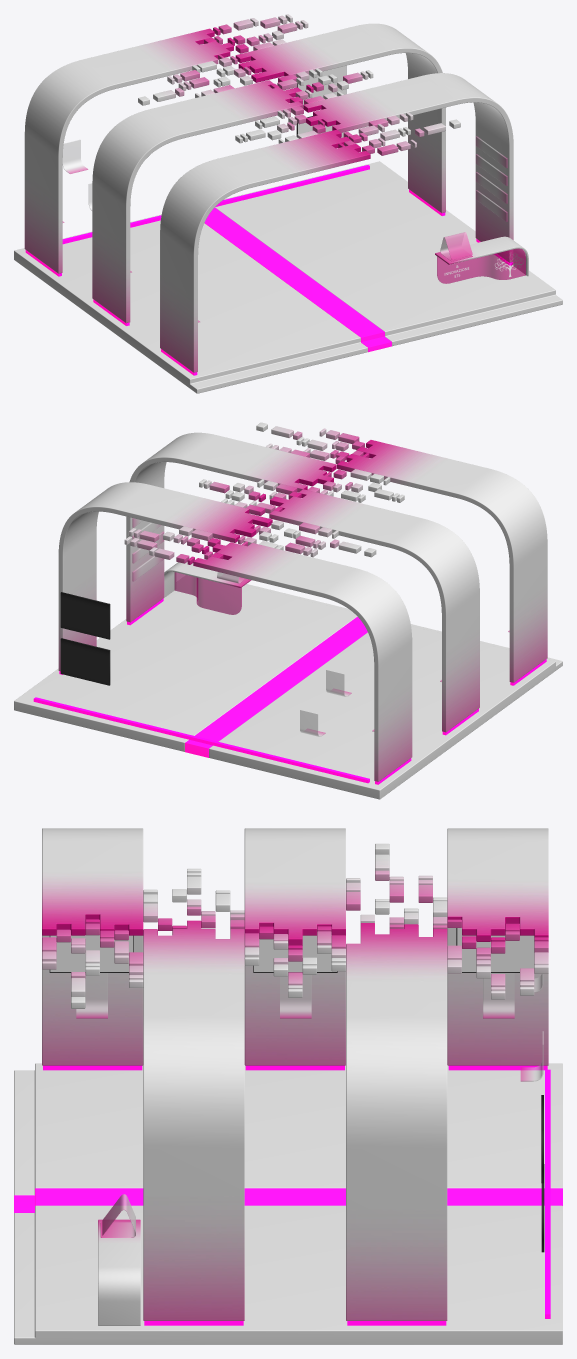
Rendered from stand_1.glb.
The picture shows the model from 3 angles, top to bottom: view 1: azimuth 30°, elevation 25°; view 2: azimuth 150°, elevation 25°; view 3: azimuth 270°, elevation 25°; orthographic projection. The views are drawn at different scales.
Parts seen in each view (by area): view 1: PAVIMENTO - FATTO UNVRAPPING001, ARCO 013 - fatto unvrapping001, ARCO 015 - fatto unvrapping001, ARCO 011 - fatto unvrapping001, ARCO 012 - fatto unvrapping001, ARCO 014 - fatto unvrapping001, LUCE IN PAVIMENTO - fatto unvrapping, BASE TAVOLINO - fatto unvrapping, SMAT 4 - fatto unvrapping, SMAT 1 - fatto unvrapping, SMAT 5 - fatto unvrapping, SMAT 3 - fatto unvrapping (+6 smaller); view 2: PAVIMENTO - FATTO UNVRAPPING001, ARCO 015 - fatto unvrapping001, ARCO 013 - fatto unvrapping001, ARCO 011 - fatto unvrapping001, ARCO 014 - fatto unvrapping001, ARCO 012 - fatto unvrapping001, LUCE IN PAVIMENTO - fatto unvrapping, SMAT 4 - fatto unvrapping, LUCE SOTTO PRINCIPALE, SMAT 5 - fatto unvrapping, SCHERMO TV - fatto unvrapping003, SCHERMO TV - fatto unvrapping004 (+7 smaller); view 3: PAVIMENTO - FATTO UNVRAPPING001, ARCO 012 - fatto unvrapping001, ARCO 014 - fatto unvrapping001, ARCO 013 - fatto unvrapping001, ARCO 015 - fatto unvrapping001, ARCO 011 - fatto unvrapping001, LUCE IN PAVIMENTO - fatto unvrapping, PIANO TAVOLINO - fatto unvrapping, SMAT 1 - fatto unvrapping, SMAT 4 - fatto unvrapping, SMAT 3 - fatto unvrapping, SMAT 5 - fatto unvrapping (+9 smaller).
Boxes of the visible parts, x1,y1,x2,y2 form: PAVIMENTO - FATTO UNVRAPPING001: (14, 161, 562, 393); ARCO 013 - fatto unvrapping001: (92, 80, 302, 323); ARCO 015 - fatto unvrapping001: (24, 28, 233, 273); ARCO 011 - fatto unvrapping001: (160, 129, 370, 372); ARCO 012 - fatto unvrapping001: (303, 73, 513, 262); ARCO 014 - fatto unvrapping001: (235, 23, 445, 212); LUCE IN PAVIMENTO - fatto unvrapping: (204, 207, 391, 352); BASE TAVOLINO - fatto unvrapping: (437, 248, 525, 283); SMAT 4 - fatto unvrapping: (138, 56, 252, 105); SMAT 1 - fatto unvrapping: (338, 112, 460, 155); SMAT 5 - fatto unvrapping: (204, 14, 308, 59); SMAT 3 - fatto unvrapping: (270, 68, 373, 104); PAVIMENTO - FATTO UNVRAPPING001: (14, 575, 562, 799); ARCO 015 - fatto unvrapping001: (193, 542, 412, 781); ARCO 013 - fatto unvrapping001: (269, 489, 479, 732); ARCO 011 - fatto unvrapping001: (337, 440, 547, 682); ARCO 014 - fatto unvrapping001: (58, 482, 272, 671); ARCO 012 - fatto unvrapping001: (126, 432, 336, 622); LUCE IN PAVIMENTO - fatto unvrapping: (185, 616, 367, 757); SMAT 4 - fatto unvrapping: (238, 520, 376, 557); LUCE SOTTO PRINCIPALE: (33, 697, 369, 783); SMAT 5 - fatto unvrapping: (124, 526, 247, 564); SCHERMO TV - fatto unvrapping003: (60, 592, 110, 639); SCHERMO TV - fatto unvrapping004: (60, 638, 110, 685); PAVIMENTO - FATTO UNVRAPPING001: (14, 1063, 562, 1344); ARCO 012 - fatto unvrapping001: (143, 920, 244, 1320); ARCO 014 - fatto unvrapping001: (346, 923, 447, 1320); ARCO 013 - fatto unvrapping001: (244, 828, 345, 1065); ARCO 015 - fatto unvrapping001: (447, 828, 548, 1065); ARCO 011 - fatto unvrapping001: (42, 828, 143, 1065); LUCE IN PAVIMENTO - fatto unvrapping: (14, 1188, 562, 1212); PIANO TAVOLINO - fatto unvrapping: (98, 1219, 140, 1325); SMAT 1 - fatto unvrapping: (42, 919, 143, 1008); SMAT 4 - fatto unvrapping: (346, 843, 447, 929); SMAT 3 - fatto unvrapping: (244, 926, 345, 997); SMAT 5 - fatto unvrapping: (447, 919, 548, 999).
Bounding box in the file's own units: 12 × 5.9 × 10.4.
26 materials, 18 textured.
